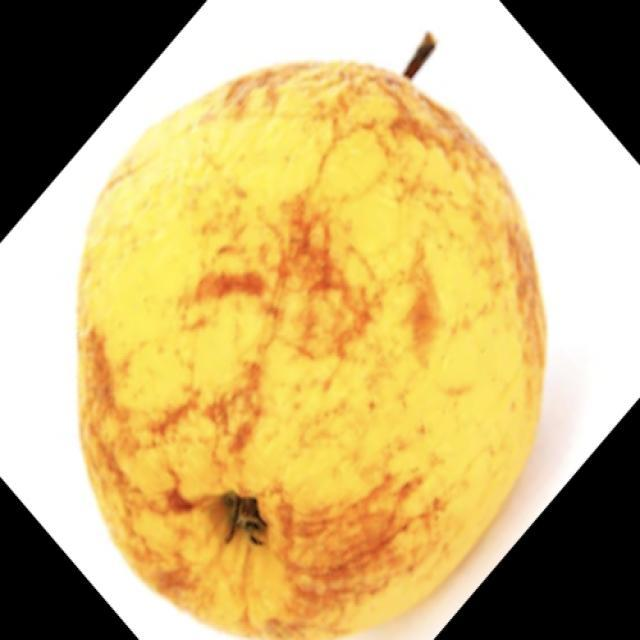Rotten: (98, 69, 555, 634)
